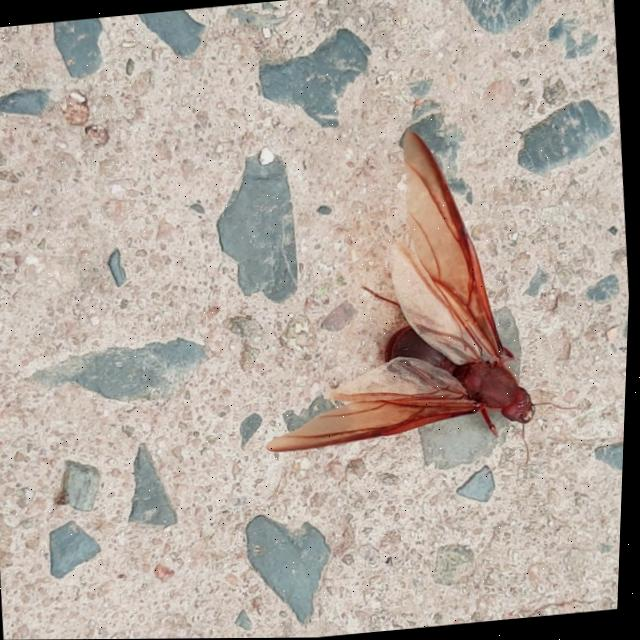Alive-Female-Alate: (240, 114, 598, 491)
